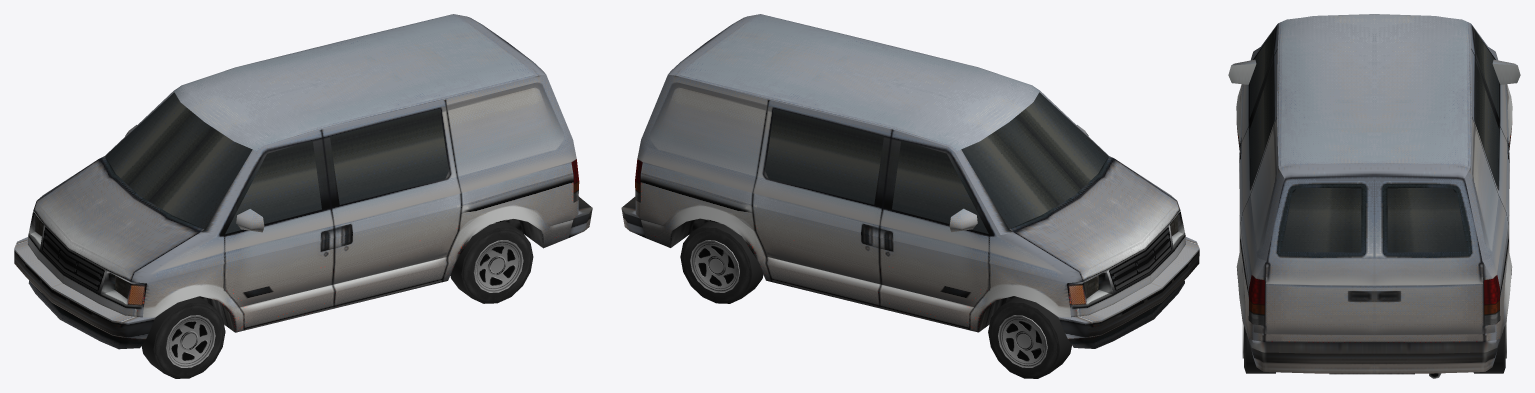
File: minivan.glb
The picture shows the model from 3 angles, left to right: view 1: azimuth 30°, elevation 25°; view 2: azimuth 150°, elevation 25°; view 3: azimuth 270°, elevation 25°; orthographic projection. The views are drawn at different scales.
Parts seen in each view (by area): view 1: Body_Body_Cosmos85_0, Glass_GT1_Glass_Clean_0, Hood_Body_Cosmos85_0, Bumper_Front_Body_Cosmos85_0, Wheel_FL_wp_tire_01_dif_0, Wheel_RL_wp_tire_01_dif_0, Wheel_FL_Rim_USAStamp_0, Wheel_RL_Rim_USAStamp_0, Bottom_gt1_Bottom_0, Bumper_rear_Body_Cosmos85_0; view 2: Body_Body_Cosmos85_0, Glass_GT1_Glass_Clean_0, Hood_Body_Cosmos85_0, Bumper_Front_Body_Cosmos85_0, Wheel_FR_wp_tire_01_dif_0, Wheel_RR_wp_tire_01_dif_0, Wheel_RR_Rim_USAStamp_0, Wheel_FR_Rim_USAStamp_0, Bottom_gt1_Bottom_0, Bumper_rear_Body_Cosmos85_0; view 3: Body_Body_Cosmos85_0, Glass_GT1_Glass_Clean_0, Bumper_rear_Body_Cosmos85_0, Stoplight_glass_gt1_headlights_3_0, Wheel_RR_wp_tire_01_dif_0, Wheel_RL_wp_tire_01_dif_0, Reverselight_glass_gt1_headlights_3_0.
Part boxes in pixels (<box>): Body_Body_Cosmos85_0: <box>28,14,578,332</box>; Glass_GT1_Glass_Clean_0: <box>105,92,448,234</box>; Hood_Body_Cosmos85_0: <box>33,159,199,281</box>; Bumper_Front_Body_Cosmos85_0: <box>14,237,154,349</box>; Wheel_FL_wp_tire_01_dif_0: <box>141,296,225,378</box>; Wheel_RL_wp_tire_01_dif_0: <box>450,221,533,303</box>; Wheel_FL_Rim_USAStamp_0: <box>166,315,215,367</box>; Wheel_RL_Rim_USAStamp_0: <box>473,240,523,292</box>; Bottom_gt1_Bottom_0: <box>198,219,543,332</box>; Bumper_rear_Body_Cosmos85_0: <box>568,196,592,237</box>; Body_Body_Cosmos85_0: <box>635,14,1185,332</box>; Glass_GT1_Glass_Clean_0: <box>765,92,1108,233</box>; Hood_Body_Cosmos85_0: <box>1014,159,1180,281</box>; Bumper_Front_Body_Cosmos85_0: <box>1058,237,1199,348</box>; Wheel_FR_wp_tire_01_dif_0: <box>988,296,1071,378</box>; Wheel_RR_wp_tire_01_dif_0: <box>680,221,763,303</box>; Wheel_RR_Rim_USAStamp_0: <box>690,240,739,292</box>; Wheel_FR_Rim_USAStamp_0: <box>998,315,1047,367</box>; Bottom_gt1_Bottom_0: <box>671,218,1015,331</box>; Bumper_rear_Body_Cosmos85_0: <box>621,197,645,237</box>; Body_Body_Cosmos85_0: <box>1228,14,1520,348</box>; Glass_GT1_Glass_Clean_0: <box>1249,29,1499,252</box>; Bumper_rear_Body_Cosmos85_0: <box>1249,338,1499,373</box>; Stoplight_glass_gt1_headlights_3_0: <box>1249,275,1499,305</box>; Wheel_RR_wp_tire_01_dif_0: <box>1473,324,1505,373</box>; Wheel_RL_wp_tire_01_dif_0: <box>1244,327,1275,373</box>; Reverselight_glass_gt1_headlights_3_0: <box>1248,310,1500,325</box>.
Bounding box in the file's own units: 4.67 × 1.88 × 2.11.
7 materials, 7 textured.
